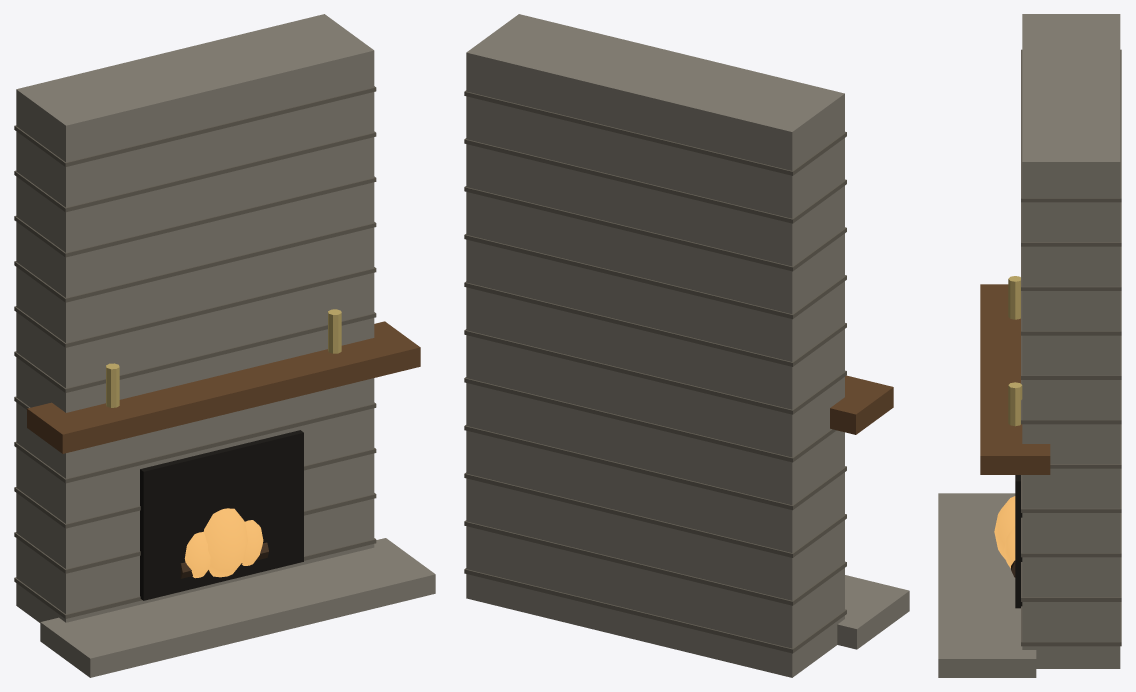
Rendered from fireplace.glb.
The picture shows the model from 3 angles, left to right: view 1: azimuth 30°, elevation 25°; view 2: azimuth 150°, elevation 25°; view 3: azimuth 270°, elevation 25°; orthographic projection. The views are drawn at different scales.
Parts seen in each view (by area): view 1: part-fieldstone, part-soot, part-mortar, part-wood, part-flame, part-brass; view 2: part-fieldstone, part-mortar, part-wood; view 3: part-fieldstone, part-wood, part-mortar, part-brass, part-flame, part-soot.
Part boxes in pixels (x1=…): part-fieldstone: x1=16, y1=14, x2=435, y2=677; part-soot: x1=140, y1=430, x2=303, y2=600; part-mortar: x1=14, y1=86, x2=376, y2=618; part-wood: x1=27, y1=321, x2=420, y2=453; part-flame: x1=184, y1=508, x2=263, y2=578; part-brass: x1=106, y1=309, x2=341, y2=407; part-fieldstone: x1=466, y1=14, x2=909, y2=677; part-mortar: x1=464, y1=90, x2=846, y2=653; part-wood: x1=830, y1=375, x2=893, y2=434; part-fieldstone: x1=938, y1=14, x2=1120, y2=677; part-wood: x1=980, y1=284, x2=1050, y2=474; part-mortar: x1=1021, y1=49, x2=1121, y2=646; part-brass: x1=1008, y1=276, x2=1022, y2=426; part-flame: x1=994, y1=496, x2=1015, y2=568; part-soot: x1=1015, y1=475, x2=1022, y2=608.
Size of the model in its own units: 58 by 80 by 26.2.
